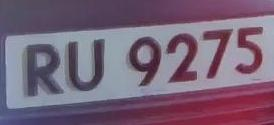2: (163, 24, 202, 88)
5: (233, 21, 271, 81)
7: (199, 26, 237, 83)
9: (123, 27, 166, 96)
R: (21, 38, 67, 100)
U: (63, 35, 111, 98)
